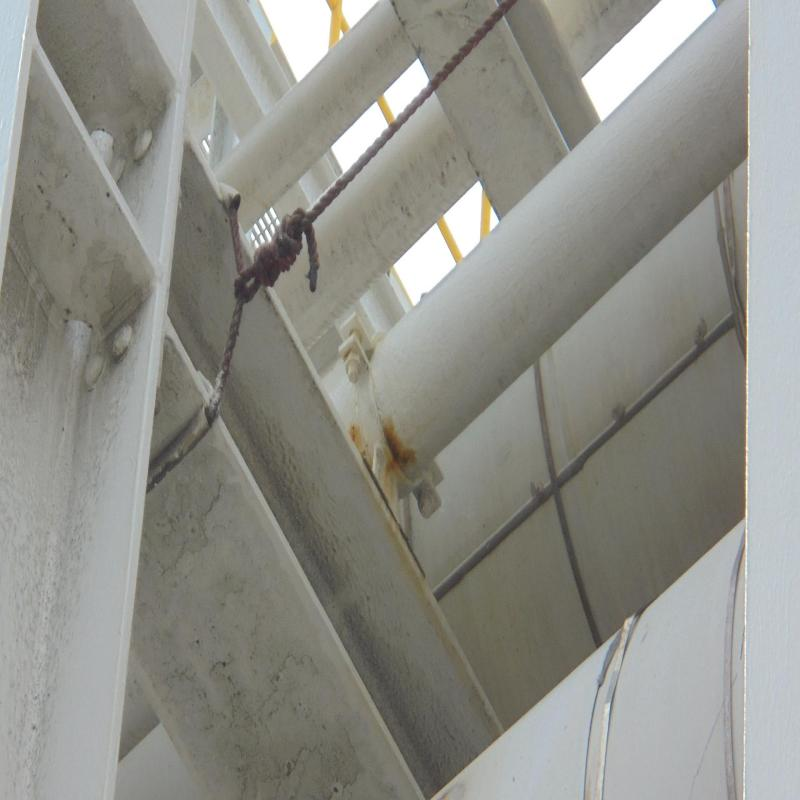corrosion: (387, 432, 407, 482)
